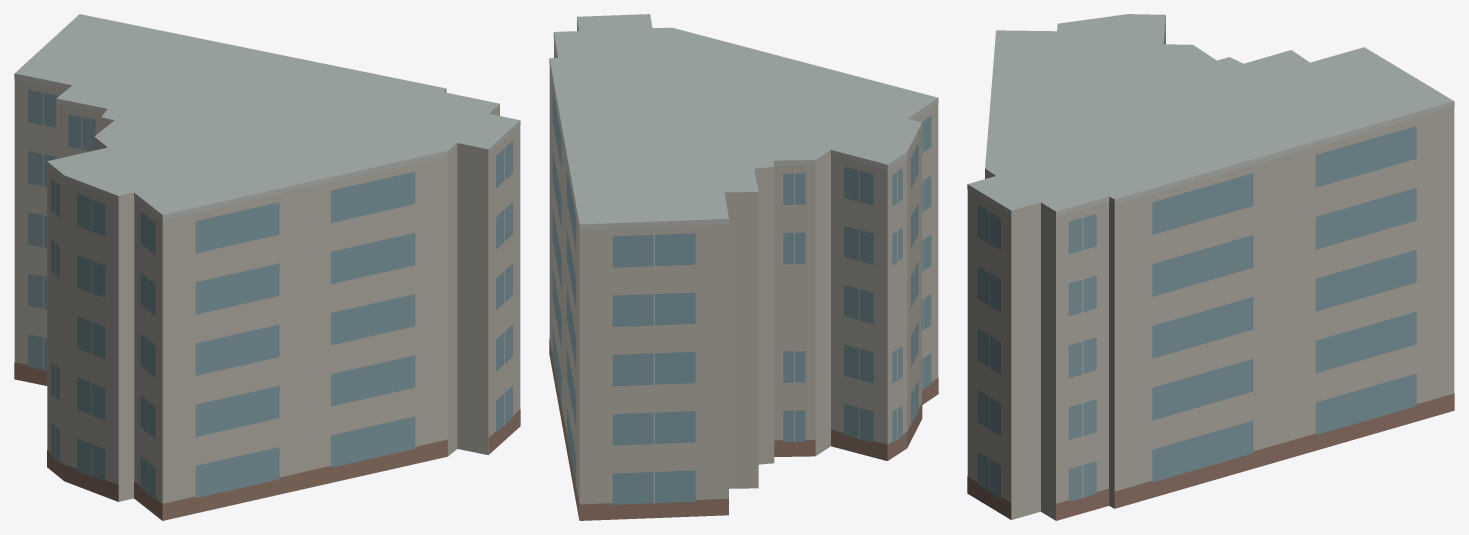
The model's file is survey-upis-32530553.glb.
3 renders of one model, left to right at view 1: azimuth 30°, elevation 25°; view 2: azimuth 150°, elevation 25°; view 3: azimuth 270°, elevation 25°, orthographic. The views are drawn at different scales.
Parts seen in each view (by area): view 1: survey-upis-32530553.tmp; view 2: survey-upis-32530553.tmp; view 3: survey-upis-32530553.tmp.
Boxes of the visible parts, bbox=[...] form: survey-upis-32530553.tmp: bbox=[14, 14, 520, 520]; survey-upis-32530553.tmp: bbox=[549, 14, 938, 520]; survey-upis-32530553.tmp: bbox=[967, 14, 1454, 520].
Bounding box in the file's own units: 19.86 × 14.5 × 20.7.
